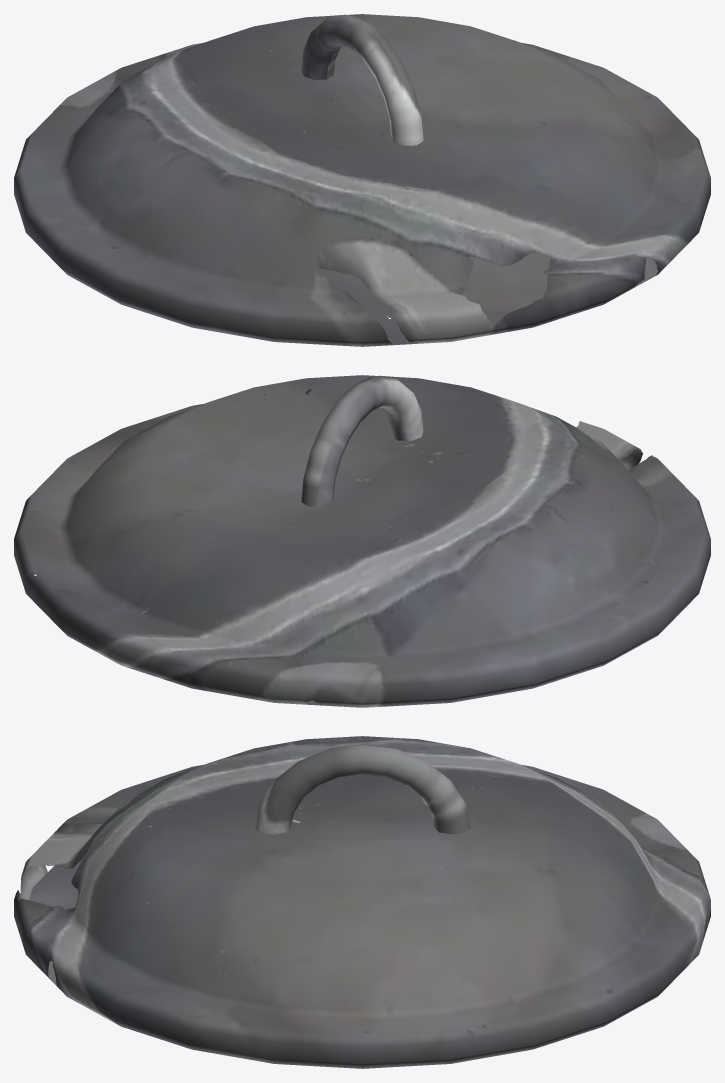
The picture shows the model from 3 angles, top to bottom: view 1: azimuth 30°, elevation 25°; view 2: azimuth 150°, elevation 25°; view 3: azimuth 270°, elevation 25°; orthographic projection.
Parts seen in each view (by area): view 1: SM_Dec_Kitchen_Castiron_Tripod_LOD0; view 2: SM_Dec_Kitchen_Castiron_Tripod_LOD0; view 3: SM_Dec_Kitchen_Castiron_Tripod_LOD0.
Boxes of the visible parts, x1,y1,x2,y2 form: SM_Dec_Kitchen_Castiron_Tripod_LOD0: [14, 14, 710, 346]; SM_Dec_Kitchen_Castiron_Tripod_LOD0: [14, 375, 710, 707]; SM_Dec_Kitchen_Castiron_Tripod_LOD0: [14, 736, 710, 1068].
Size of the model in its own units: 0.5107 by 0.1455 by 0.5107.
